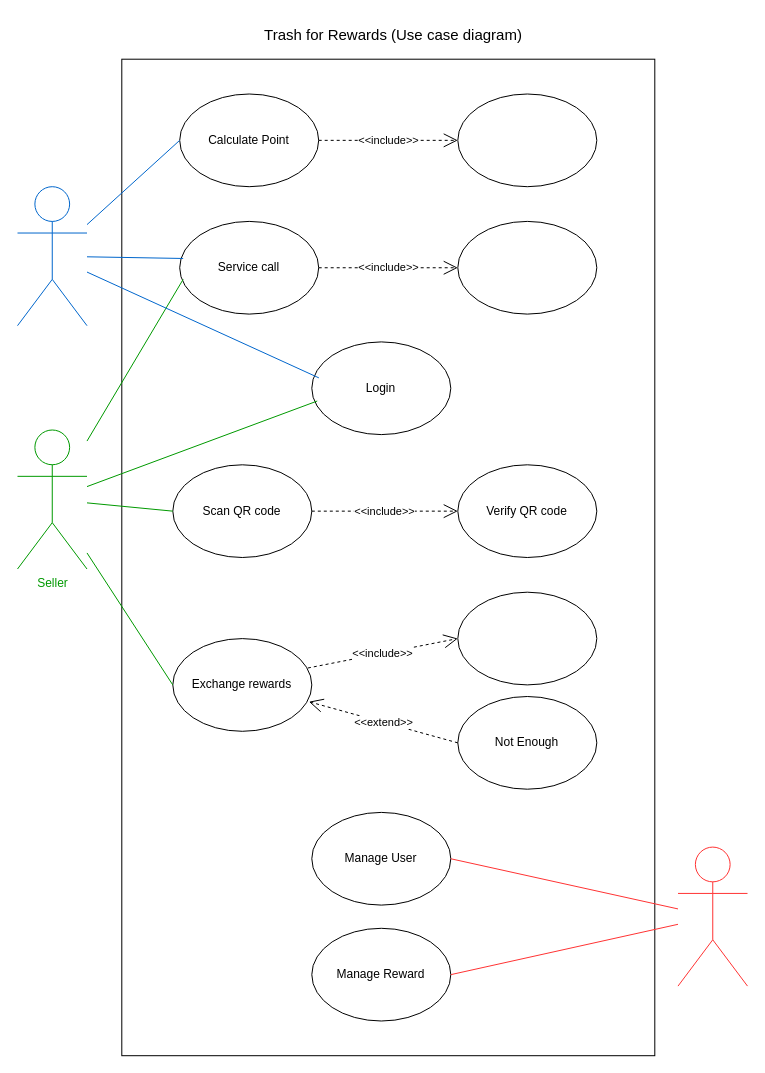
Image size: 765x1073. Some labels were removed from this diagram. Each missing label, with the centre of its shape:
Admin: the point at 712,916
Buyer: the point at 51,256
Generate QR Code: the point at 527,140
Mapping: the point at 527,267
Verify points: the point at 527,638
